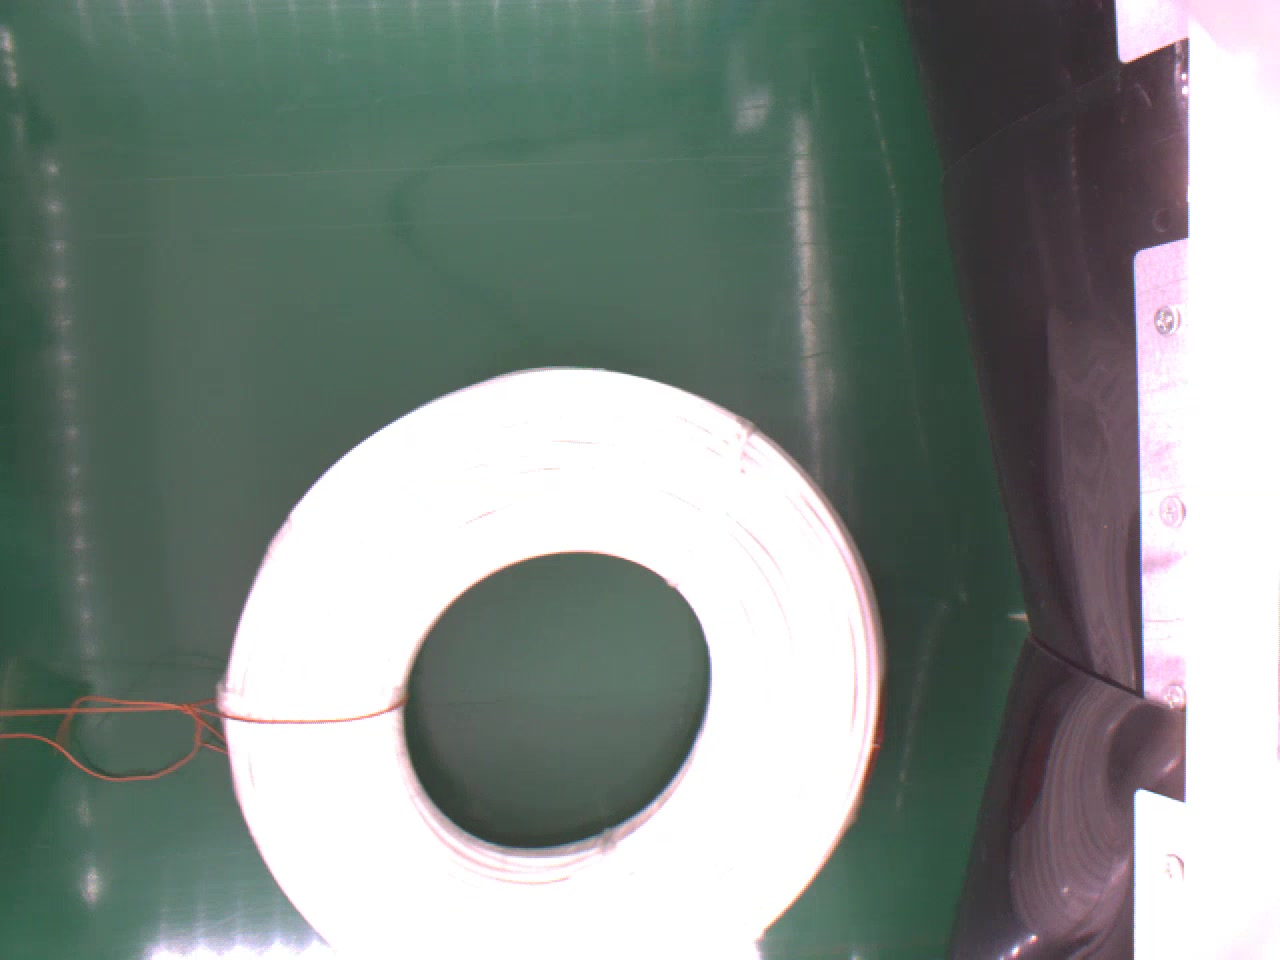white: (214, 363, 887, 960)
